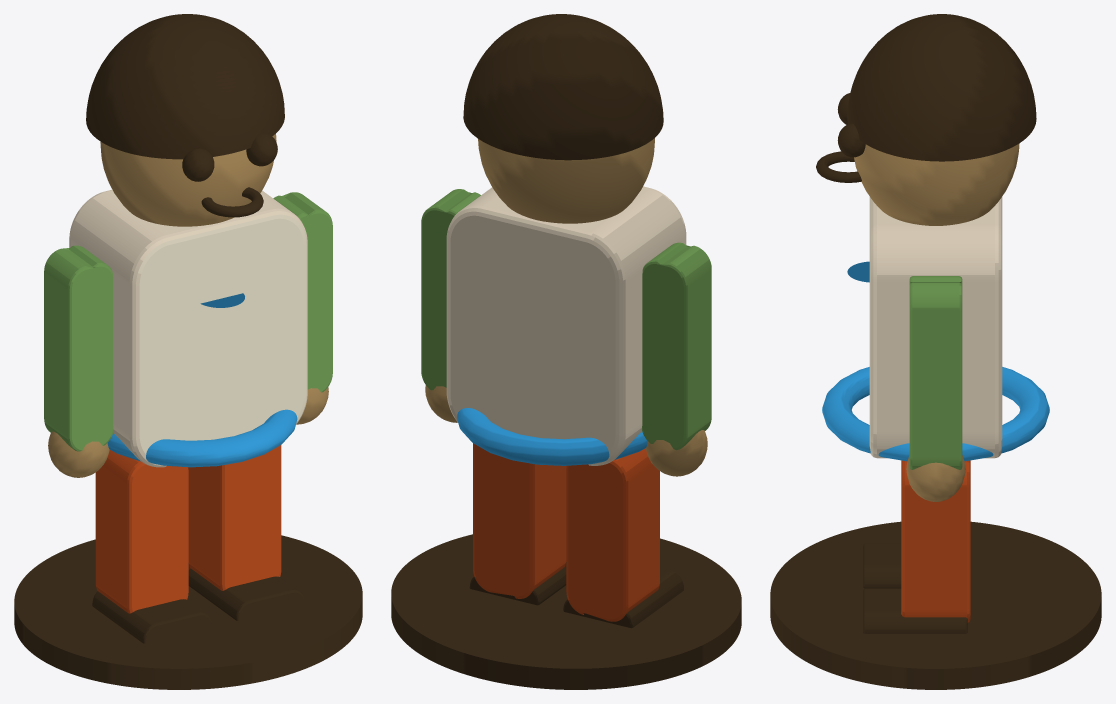
Rendered from 0916_秦汉图鉴_骑兵俑.glb.
3 views of the same model, side by side, from view 1: azimuth 30°, elevation 25°; view 2: azimuth 150°, elevation 25°; view 3: azimuth 270°, elevation 25° (orthographic).
Parts seen in each view (by area): view 1: card_0916; view 2: card_0916; view 3: card_0916.
Part boxes in pixels (x1,y1,x2,y2): card_0916: (14, 14, 362, 689); card_0916: (391, 14, 741, 689); card_0916: (770, 14, 1101, 689).
Size of the model in its own units: 0.5391 by 1 by 0.5066.
